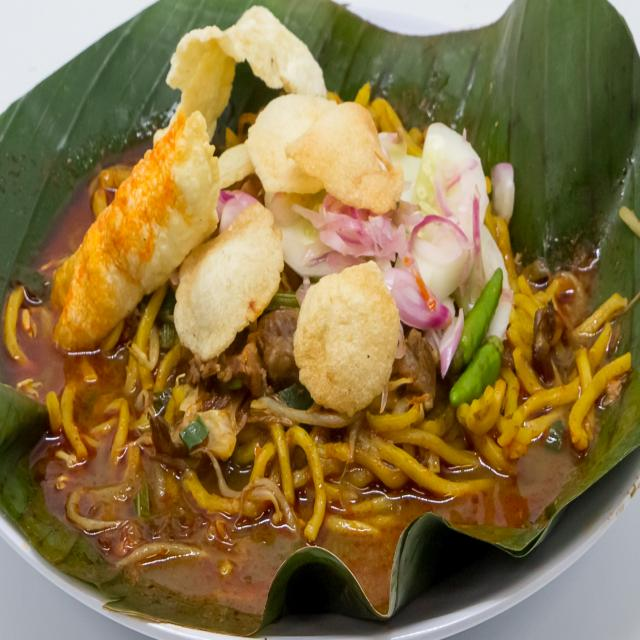Mie-Aceh: (31, 4, 631, 556)
